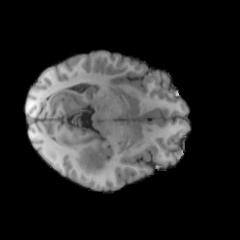glioma: (78, 150, 109, 173)
